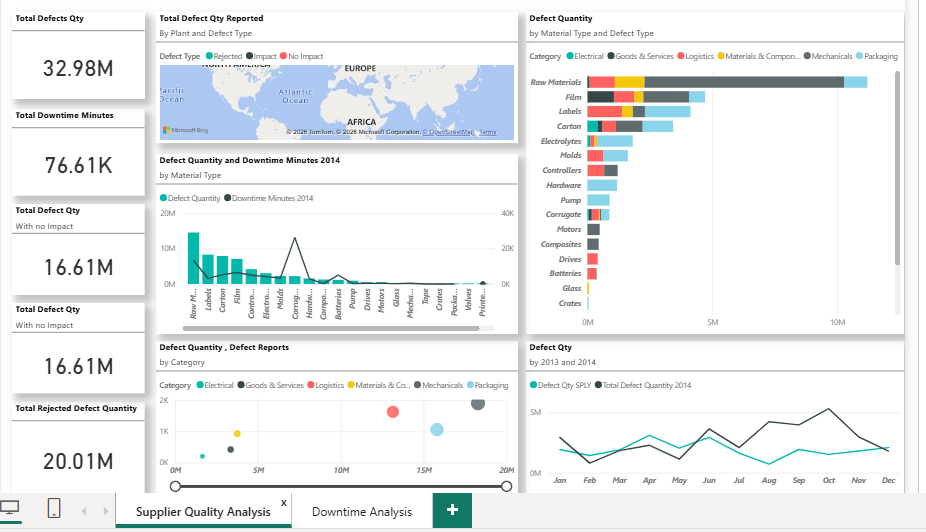

The page's visual inventory and layout, read from the dashboard file:
{"tool":"powerbi","page":{"name":"Supplier Quality Analysis ","canvas":[1280,720],"ordinal":0},"visuals":[{"type":"card","title":"Total Downtime Minutes ","fields":{"Values":["Metrics.Downtime Minutes 2014"]},"box":[15.1,176.4,188.1,122.6],"z":0},{"type":"card","title":"Total Defects Qty","fields":{"Values":["Metrics.Total Defect Quantity 2014"]},"box":[15.1,38.6,188.1,122.6],"z":1000},{"type":"card","title":"Total Defect Qty ","fields":{"Values":["Defect Type.Defects with no Impacts"]},"box":[15.1,310.8,188.1,129.3],"z":2000},{"type":"card","title":"Total Rejected Defect Quantity ","fields":{"Values":["Defect Type.Defects Rejected Reports"]},"box":[15.1,591.3,188.1,129.3],"z":3000},{"type":"map","title":"Total Defect Qty Reported ","fields":{"Series":["Defect Type.Defect Type"],"Size":["Metrics.Total Defect Reports"],"Category":["Plant.Plant"]},"box":[220.3,38.9,512.6,185.8],"z":4000},{"type":"lineStackedColumnComboChart","fields":{"Category":["Material Type.Material Type"],"Y":["Metrics.Defect Quantity"],"Y2":["Metrics.Downtime Minutes 2014"]},"box":[220.3,239,512.6,254.9],"z":5000},{"type":"card","title":"Total Defect Qty ","fields":{"Values":["Defect Type.Defects with no Impacts"]},"box":[15.1,450.2,188.1,127.7],"z":6000},{"type":"scatterChart","title":"Defect Quantity , Defect Reports ","fields":{"X":["Metrics.Defect Quantity"],"Y":["Metrics.Total Defect Reports"],"Series":["Category.Category"],"Size":["Metrics.Defect Quantity"]},"box":[220.3,504,512.6,216],"z":7000},{"type":"barChart","title":"Defect Quantity","fields":{"Category":["Material Type.Material Type"],"Y":["Metrics.Total Defect Quantity 2014"],"Series":["Category.Category"]},"box":[744.1,38.3,535.7,456.4],"z":8000},{"type":"lineChart","title":"Defect Qty ","fields":{"Category":["Date.Month"],"Y":["Metrics.Defect Qty SPLY","Metrics.Total Defect Quantity 2014"]},"box":[744.5,504,535.7,214.6],"z":9000}]}

Visuals, with their boxes on the page's 1280x720 design canvas (x1, y1, x2, y2). These are canvas units, not pixel positions in the 926x532 screenshot, which may show the page scaled, cropped or inside an application window:
"Total Downtime Minutes " card: box(15, 176, 203, 299)
"Total Defects Qty" card: box(15, 39, 203, 161)
"Total Defect Qty " card: box(15, 311, 203, 440)
"Total Rejected Defect Quantity " card: box(15, 591, 203, 721)
"Total Defect Qty Reported " map: box(220, 39, 733, 225)
lineStackedColumnComboChart - Material Type.Material Type x Metrics.Defect Quantity: box(220, 239, 733, 494)
"Total Defect Qty " card: box(15, 450, 203, 578)
"Defect Quantity , Defect Reports " scatterChart: box(220, 504, 733, 720)
"Defect Quantity" barChart: box(744, 38, 1280, 495)
"Defect Qty " lineChart: box(744, 504, 1280, 719)
